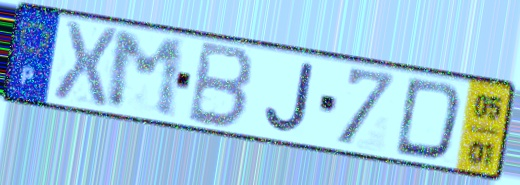7: (335, 64, 399, 149)
B: (183, 38, 258, 133)
D: (391, 75, 466, 164)
J: (261, 60, 317, 136)
M: (104, 29, 187, 122)
X: (50, 17, 122, 110)
